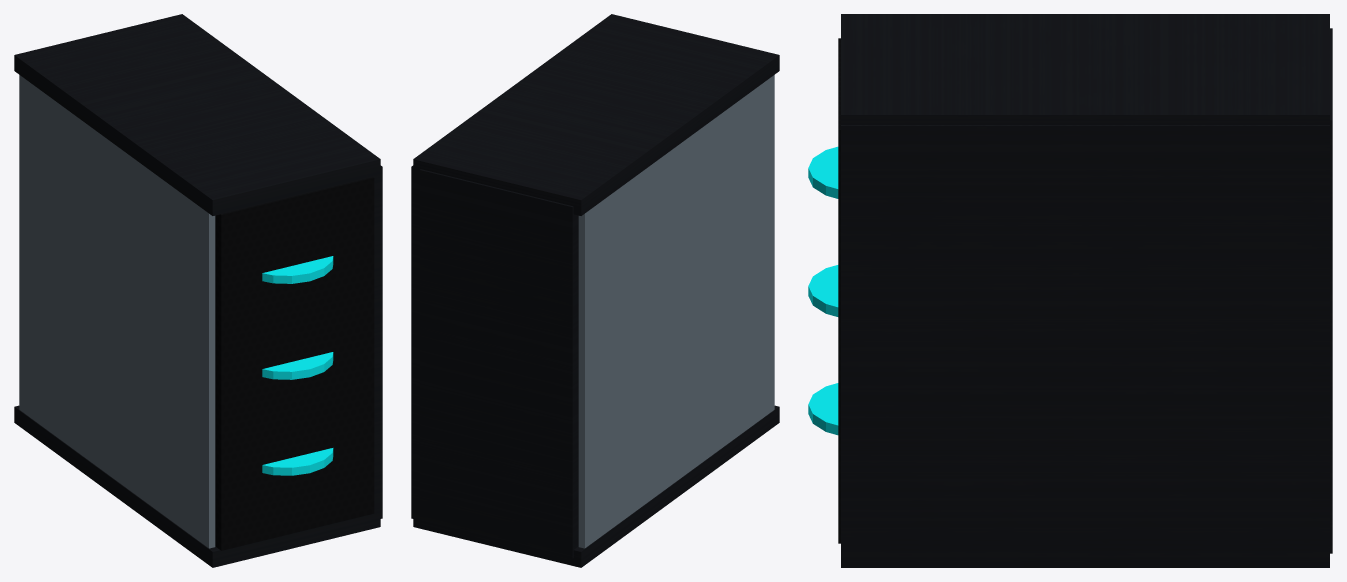
Rendered from pc_tower_rgb.glb.
The picture shows the model from 3 angles, left to right: view 1: azimuth 30°, elevation 25°; view 2: azimuth 150°, elevation 25°; view 3: azimuth 270°, elevation 25°; orthographic projection. The views are drawn at different scales.
Visible parts, largest first — view 1: GlassSide, FrontMesh, Chassis, RGBFans; view 2: Chassis, GlassSide; view 3: Chassis, RGBFans, FrontMesh.
Boxes of the visible parts, box(x1,y1,x2,y2) form: GlassSide: box(19, 75, 215, 548); FrontMesh: box(215, 177, 374, 550); Chassis: box(14, 14, 382, 567); RGBFans: box(262, 256, 333, 475); Chassis: box(411, 14, 779, 567); GlassSide: box(578, 75, 774, 548); Chassis: box(841, 14, 1332, 567); RGBFans: box(808, 146, 838, 435); FrontMesh: box(838, 38, 840, 543).
Bounding box in the file's own units: 0.2225 × 0.465 × 0.4825.
Materials: 6 (3 with a texture image).
